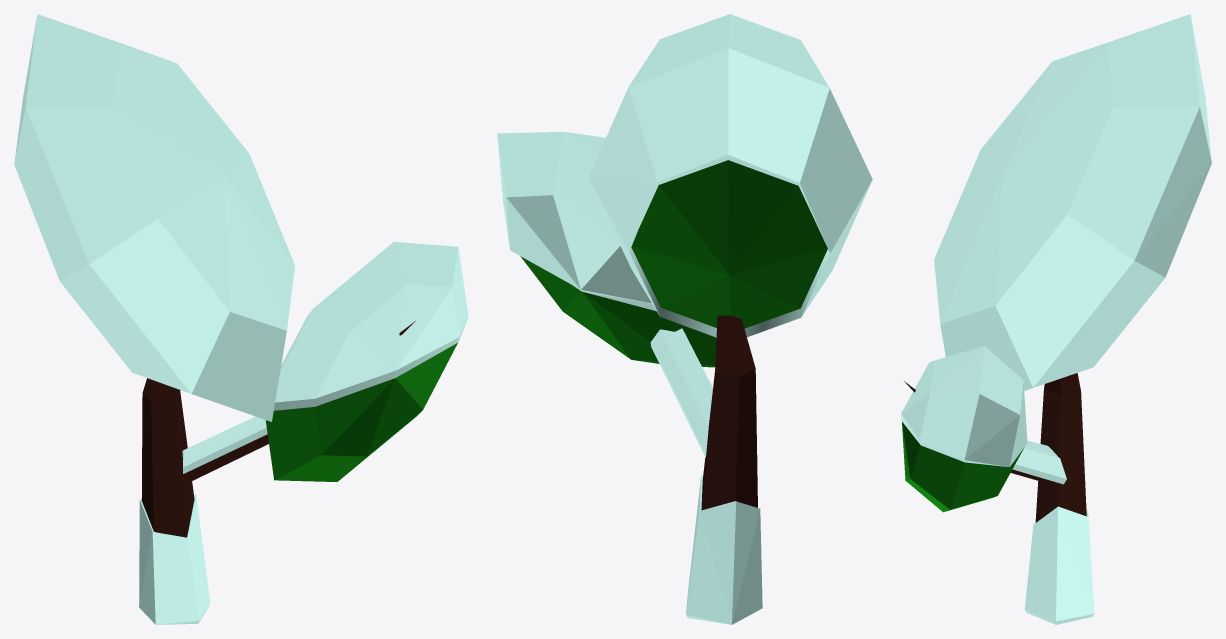
File: Tree4.FBX
3 views of the same model, side by side, from view 1: azimuth 30°, elevation 25°; view 2: azimuth 150°, elevation 25°; view 3: azimuth 270°, elevation 25° (orthographic). The views are drawn at different scales.
Parts seen in each view (by area): view 1: Tree4_C, Tree4_b, Tree4_a; view 2: Tree4_C, Tree4_b, Tree4_a; view 3: Tree4_C, Tree4_a, Tree4_b.
Part boxes in pixels (bbox=[...]): Tree4_C: bbox=[14, 14, 468, 624]; Tree4_b: bbox=[265, 343, 457, 481]; Tree4_a: bbox=[141, 321, 415, 537]; Tree4_C: bbox=[497, 14, 872, 624]; Tree4_b: bbox=[520, 160, 827, 367]; Tree4_a: bbox=[701, 315, 757, 510]; Tree4_C: bbox=[901, 14, 1211, 624]; Tree4_a: bbox=[904, 373, 1086, 522]; Tree4_b: bbox=[902, 422, 1024, 512].
Bounding box in the file's own units: 11739 × 17310 × 8691.
